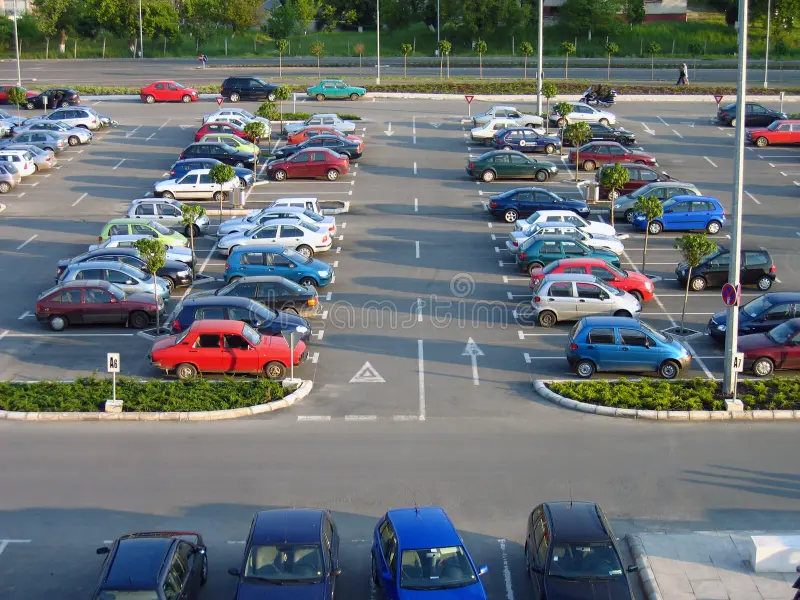Car: (524, 500, 637, 600), (371, 507, 488, 600), (231, 508, 340, 600), (149, 320, 307, 379), (93, 530, 208, 600), (566, 316, 691, 379), (35, 280, 164, 331), (168, 296, 311, 340), (54, 248, 193, 293), (532, 275, 641, 328), (530, 257, 655, 302), (674, 239, 773, 292), (224, 245, 334, 288), (705, 291, 800, 340), (217, 219, 333, 258), (516, 233, 621, 274), (215, 276, 319, 316), (59, 262, 170, 299), (608, 182, 703, 223), (506, 221, 624, 254), (217, 206, 337, 238), (737, 317, 800, 377), (487, 187, 590, 223), (632, 196, 727, 235), (89, 235, 197, 268), (125, 198, 211, 237), (595, 164, 684, 200), (466, 150, 558, 182), (266, 147, 350, 182), (154, 168, 240, 202), (98, 219, 191, 248), (568, 142, 657, 170), (168, 158, 253, 187), (514, 210, 614, 234), (274, 134, 363, 160), (12, 120, 93, 146), (179, 142, 258, 168), (557, 123, 635, 147), (491, 127, 560, 154), (715, 101, 789, 126), (203, 112, 271, 139), (287, 126, 364, 149), (548, 102, 616, 128), (23, 107, 100, 129), (0, 144, 57, 172), (284, 113, 356, 135), (221, 76, 279, 103), (472, 106, 543, 128), (0, 131, 67, 154), (745, 119, 800, 147), (470, 119, 525, 146), (198, 133, 261, 156), (194, 122, 259, 143), (20, 87, 82, 109), (140, 81, 199, 104), (307, 79, 366, 101), (215, 108, 272, 129), (269, 196, 323, 214), (0, 150, 36, 177), (0, 83, 41, 104), (579, 87, 617, 107), (0, 163, 21, 194), (0, 109, 28, 125), (0, 115, 16, 135), (0, 121, 6, 138)
